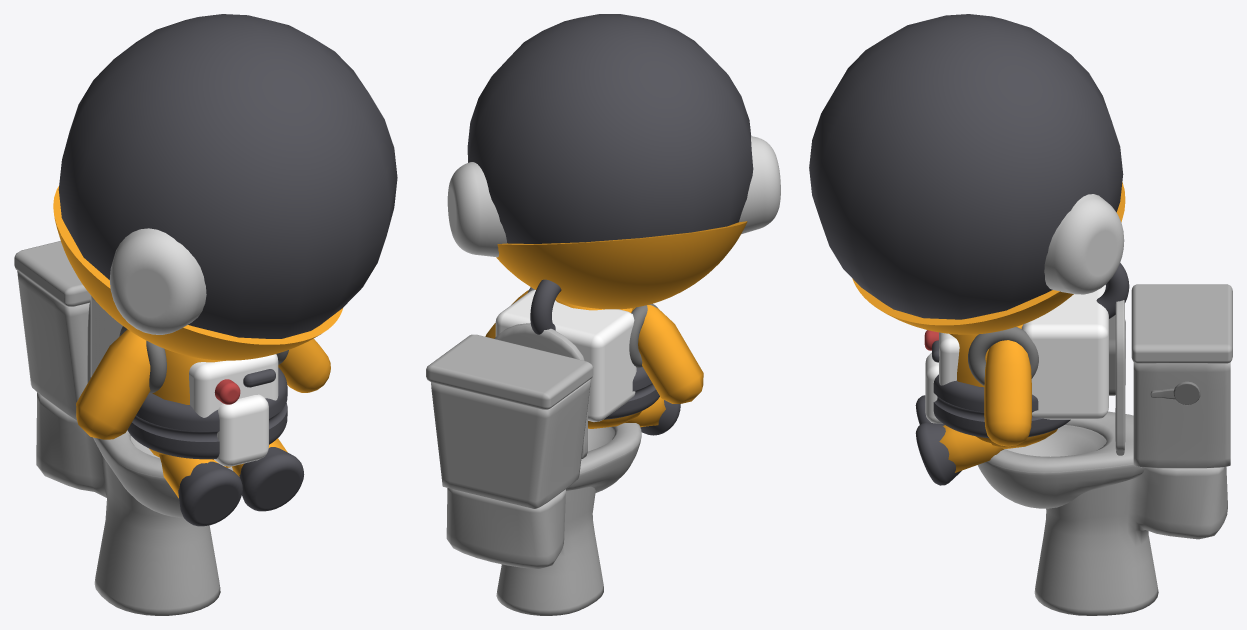
The model's file is nopage-joey-1.gltf.
3 views of the same model, side by side, from view 1: azimuth 30°, elevation 25°; view 2: azimuth 150°, elevation 25°; view 3: azimuth 270°, elevation 25° (orthographic). The views are drawn at different scales.
Parts seen in each view (by area): view 1: head-glass, main body, ear-right, tank, head-glass-bottom, arm-right, belt, front-armor-bottom, foot-right, front-armor, foot-left, taptank (+5 smaller); view 2: head-glass, main body, tank, head-glass-bottom, taptank, backpack-main, arm-right, ear-left, ear-right, taptoptoilette, oxygen-tube, belt (+4 smaller); view 3: head-glass, main body, tank, backpack-main, taptank, ear-left, arm-left, head-glass-bottom, belt, foot-left, backpacke-belt-left, taptoptoilette (+6 smaller).
Part boxes in pixels (box(x1,y1,x2,y2)): head-glass: box(58, 14, 397, 338); main body: box(36, 392, 233, 615); ear-right: box(109, 228, 206, 334); tank: box(17, 270, 89, 420); head-glass-bottom: box(53, 186, 342, 360); arm-right: box(76, 329, 150, 439); belt: box(127, 367, 287, 459); front-armor-bottom: box(214, 394, 268, 466); foot-right: box(178, 461, 242, 526); front-armor: box(189, 354, 278, 417); foot-left: box(239, 447, 304, 511); taptank: box(14, 241, 90, 306); head-glass: box(467, 14, 753, 243); main body: box(446, 423, 641, 615); tank: box(431, 379, 590, 508); head-glass-bottom: box(496, 221, 747, 309); taptank: box(426, 334, 593, 409); backpack-main: box(495, 290, 636, 421); arm-right: box(631, 305, 703, 403); ear-left: box(447, 162, 506, 257); ear-right: box(739, 136, 780, 234); taptoptoilette: box(494, 323, 587, 458); oxygen-tube: box(530, 279, 561, 334); belt: box(604, 367, 659, 419); head-glass: box(809, 14, 1123, 319); main body: box(977, 411, 1227, 615); tank: box(1133, 362, 1230, 468); backpack-main: box(1021, 285, 1108, 419); taptank: box(1131, 284, 1232, 363); ear-left: box(1044, 194, 1124, 294); arm-left: box(984, 340, 1031, 446); head-glass-bottom: box(852, 182, 1125, 334); belt: box(933, 374, 1070, 437); foot-left: box(915, 422, 961, 485); backpacke-belt-left: box(968, 327, 1038, 385); taptoptoilette: box(1115, 300, 1125, 450).
Size of the model in its own units: 0.5527 by 1.07 by 0.7249.
